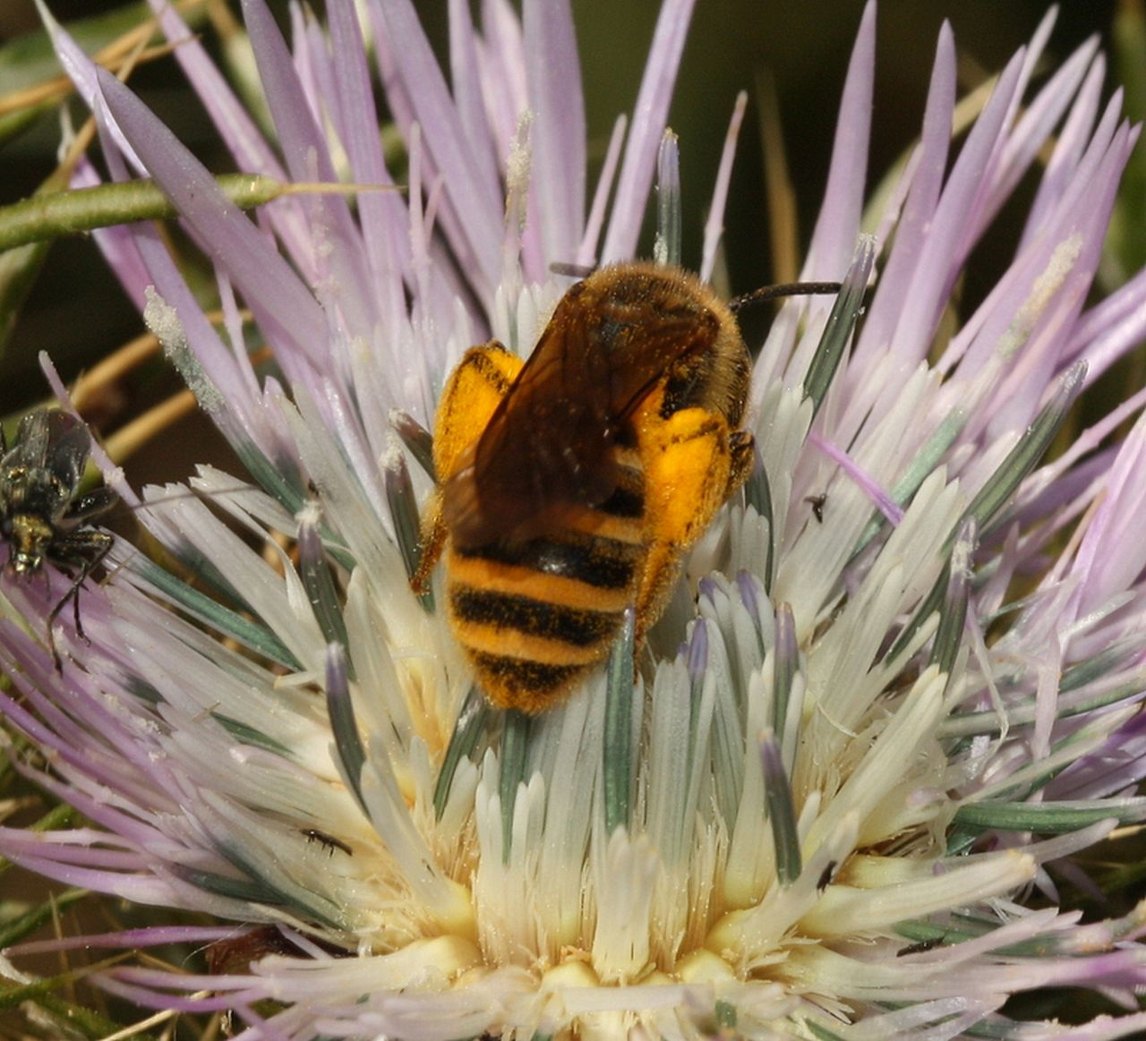Halictus scabiosae: (322, 221, 889, 744)
